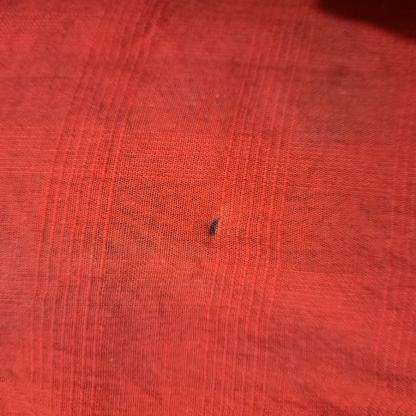spot: (192, 210, 235, 242)
